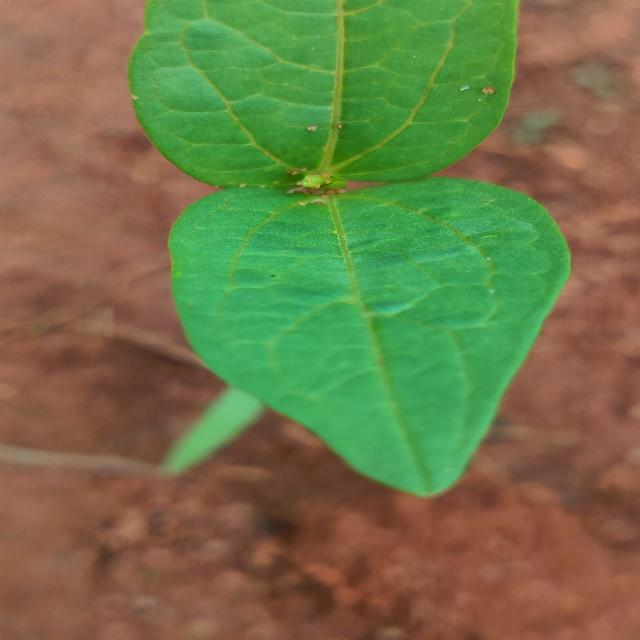Black gram_healthy: (170, 176, 565, 496), (136, 2, 525, 179)
